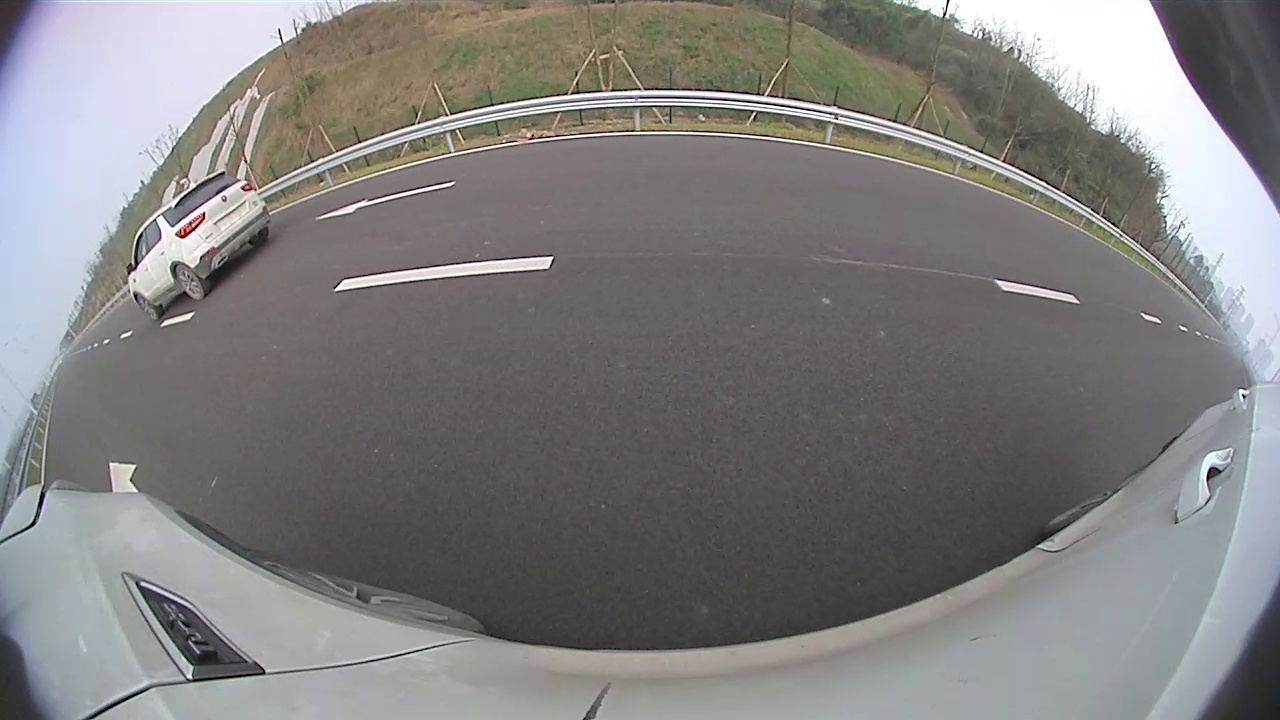car: (128, 167, 271, 323)
front: (136, 293, 161, 321)
rear: (173, 264, 208, 302)
